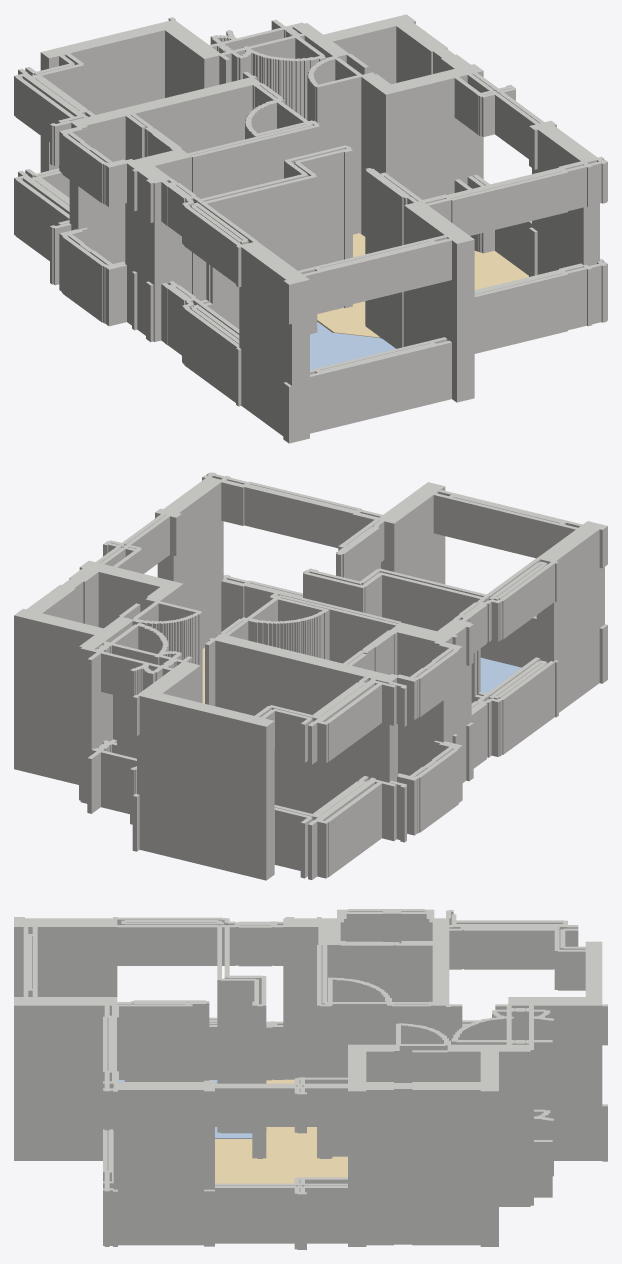
The picture shows the model from 3 angles, top to bottom: view 1: azimuth 30°, elevation 25°; view 2: azimuth 150°, elevation 25°; view 3: azimuth 270°, elevation 25°; orthographic projection. The views are drawn at different scales.
Parts seen in each view (by area): view 1: walls, room:living:4, room:bedroom:5; view 2: walls, room:bedroom:5; view 3: walls, room:living:4.
Boxes of the visible parts, <box> form: walls: <box>14,14,607,443</box>; room:living:4: <box>317,233,528,337</box>; room:bedroom:5: <box>310,322,395,369</box>; walls: <box>14,472,607,880</box>; room:bedroom:5: <box>480,657,521,693</box>; walls: <box>14,909,607,1249</box>; room:living:4: <box>215,1079,347,1183</box>.
Size of the model in its own units: 7.16 by 2.8 by 9.7.
